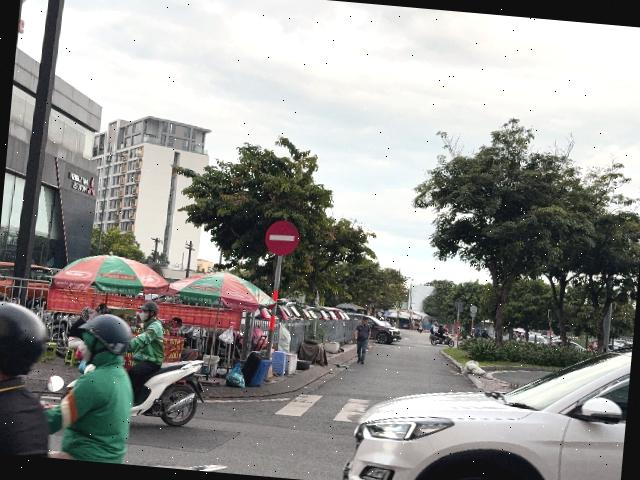cam-di-nguoc-chieu: (263, 218, 300, 258)
